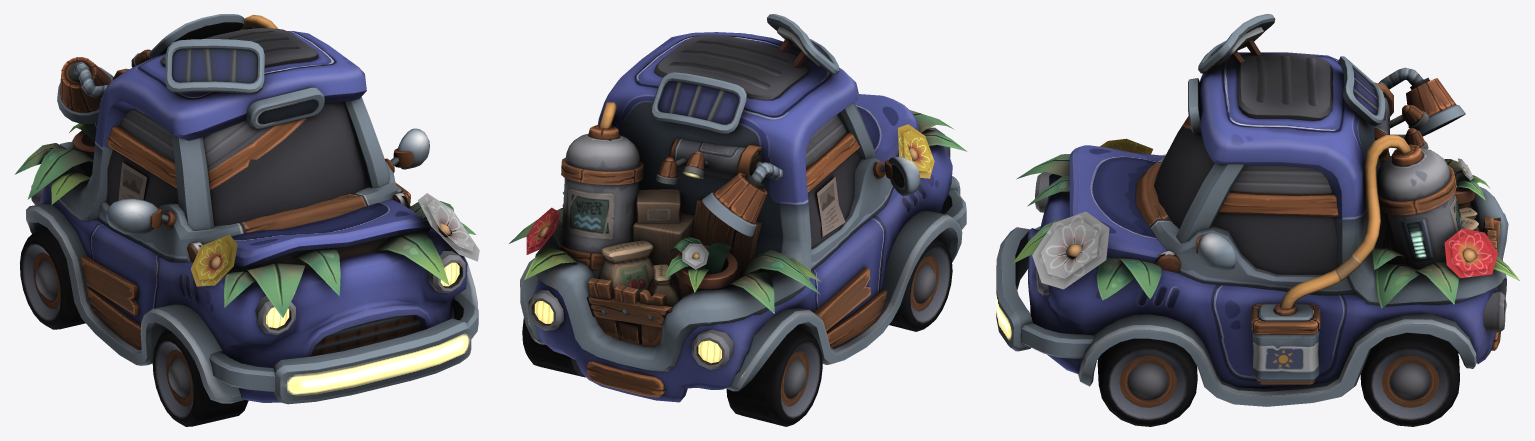
Rendered from cartoon_car.glb.
3 renders of one model, left to right at view 1: azimuth 30°, elevation 25°; view 2: azimuth 150°, elevation 25°; view 3: azimuth 270°, elevation 25°, orthographic. The views are drawn at different scales.
Parts seen in each view (by area): view 1: car; view 2: car; view 3: car.
Part boxes in pixels (<box>): car: <box>14,14,479,426</box>; car: <box>509,14,967,426</box>; car: <box>996,14,1519,426</box>.
Bounding box in the file's own units: 2.53 × 2.48 × 3.65.
Materials: 1 (1 with a texture image).
